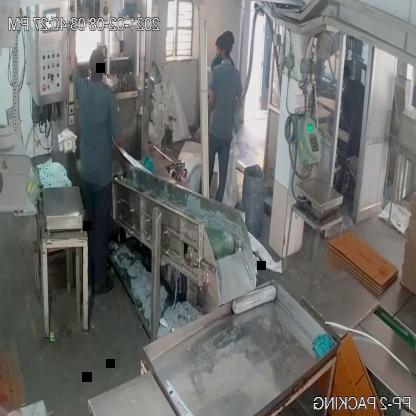no_glove: (64, 16, 80, 78)
